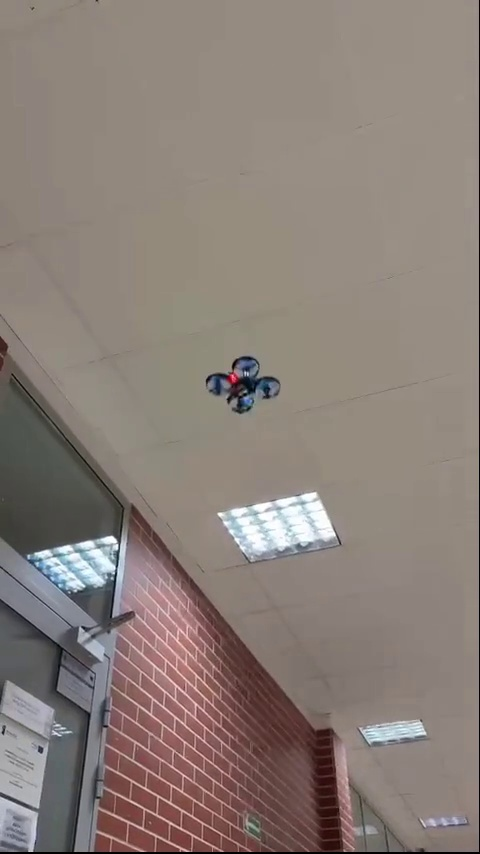drone: (203, 363, 276, 405)
